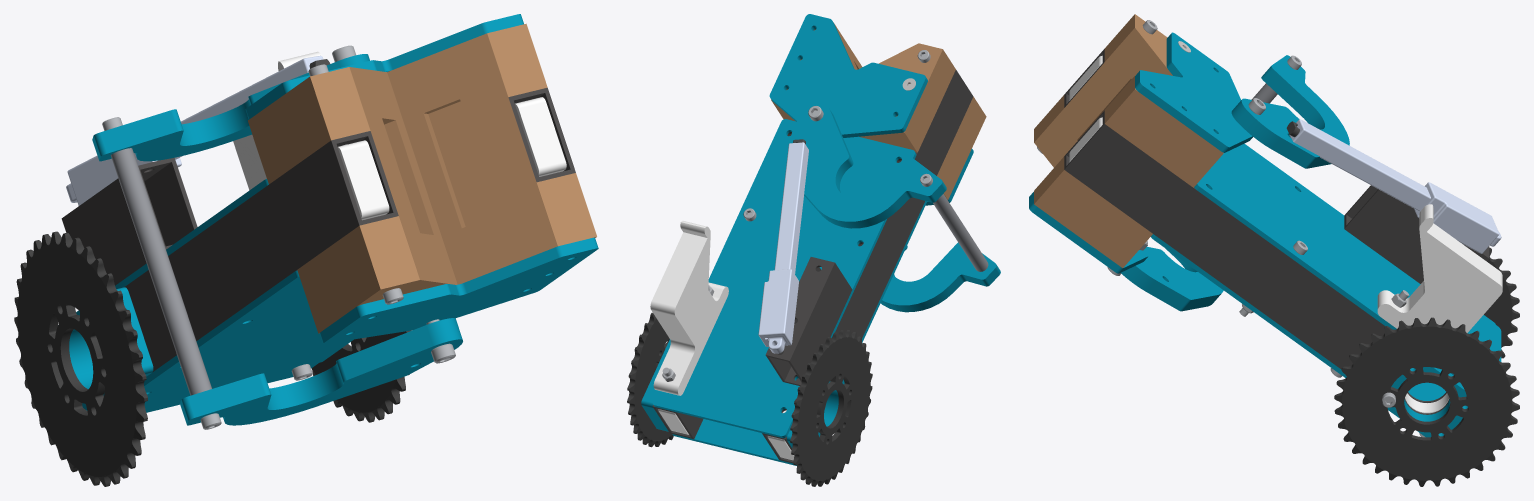
The picture shows the model from 3 angles, left to right: view 1: azimuth 30°, elevation 25°; view 2: azimuth 150°, elevation 25°; view 3: azimuth 270°, elevation 25°; orthographic projection. The views are drawn at different scales.
Parts seen in each view (by area): view 1: Climb, Linear Actuator 1; view 2: Climb, Linear Actuator 1; view 3: Climb, Linear Actuator 1.
Boxes of the visible parts, x1,y1,x2,y2 form: Climb: [14, 14, 598, 486]; Linear Actuator 1: [66, 55, 323, 205]; Climb: [627, 14, 1000, 486]; Linear Actuator 1: [758, 142, 808, 353]; Climb: [1029, 14, 1519, 486]; Linear Actuator 1: [1289, 119, 1501, 253].
Bounding box in the file's own units: 0.1838 × 0.2684 × 0.3028.
